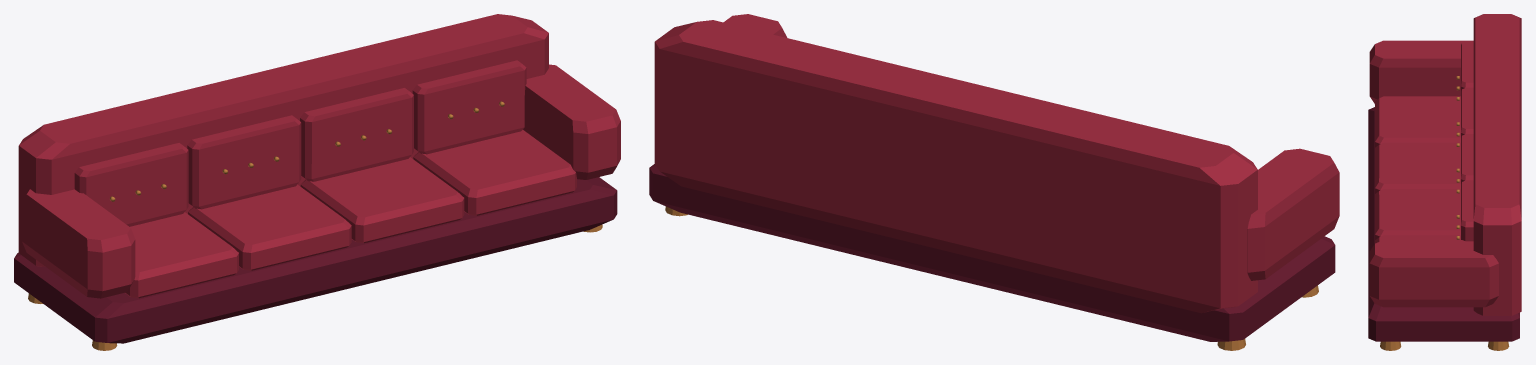
The model's file is gunners-sofa.glb.
3 renders of one model, left to right at view 1: azimuth 30°, elevation 25°; view 2: azimuth 150°, elevation 25°; view 3: azimuth 270°, elevation 25°, orthographic. The views are drawn at different scales.
Visible parts, largest first — view 1: gunners-sofa · Oxblood leather, gunners-sofa · Oxblood seam, gunners-sofa · Upholstery brass; view 2: gunners-sofa · Oxblood leather, gunners-sofa · Oxblood seam; view 3: gunners-sofa · Oxblood leather, gunners-sofa · Oxblood seam, gunners-sofa · Upholstery brass.
Boxes of the visible parts, left/top/right/bottom form: gunners-sofa · Oxblood leather: left=18, top=14, right=620, bottom=298; gunners-sofa · Oxblood seam: left=14, top=177, right=617, bottom=343; gunners-sofa · Upholstery brass: left=28, top=101, right=602, bottom=350; gunners-sofa · Oxblood leather: left=654, top=14, right=1339, bottom=313; gunners-sofa · Oxblood seam: left=649, top=164, right=1335, bottom=341; gunners-sofa · Oxblood leather: left=1369, top=14, right=1521, bottom=315; gunners-sofa · Oxblood seam: left=1368, top=107, right=1519, bottom=341; gunners-sofa · Upholstery brass: left=1380, top=76, right=1509, bottom=350.
Bounding box in the file's own units: 5.82 × 1.68 × 1.72.
